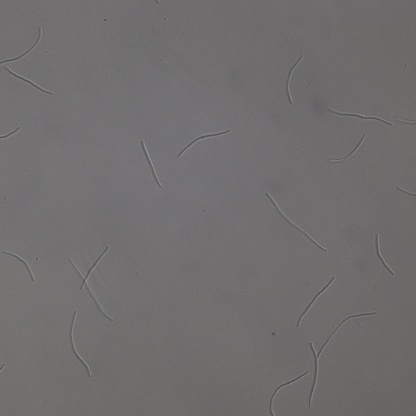Sensitive: (308, 312, 376, 408), (267, 194, 326, 251), (70, 243, 111, 320), (267, 372, 306, 416), (299, 279, 334, 324), (67, 310, 90, 376), (1, 28, 41, 65), (178, 129, 231, 154), (7, 68, 52, 93), (1, 246, 33, 279), (330, 135, 366, 163), (329, 109, 391, 124), (285, 55, 303, 104), (141, 141, 159, 187), (374, 233, 393, 274)
